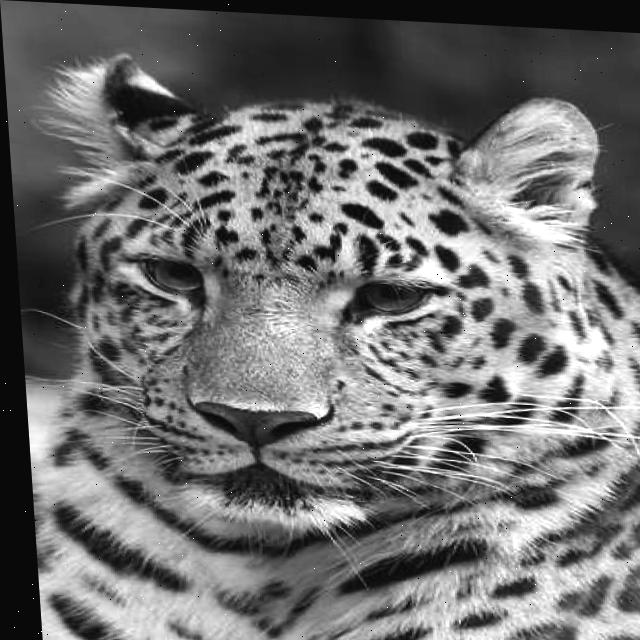Leopard: (15, 49, 620, 607)
